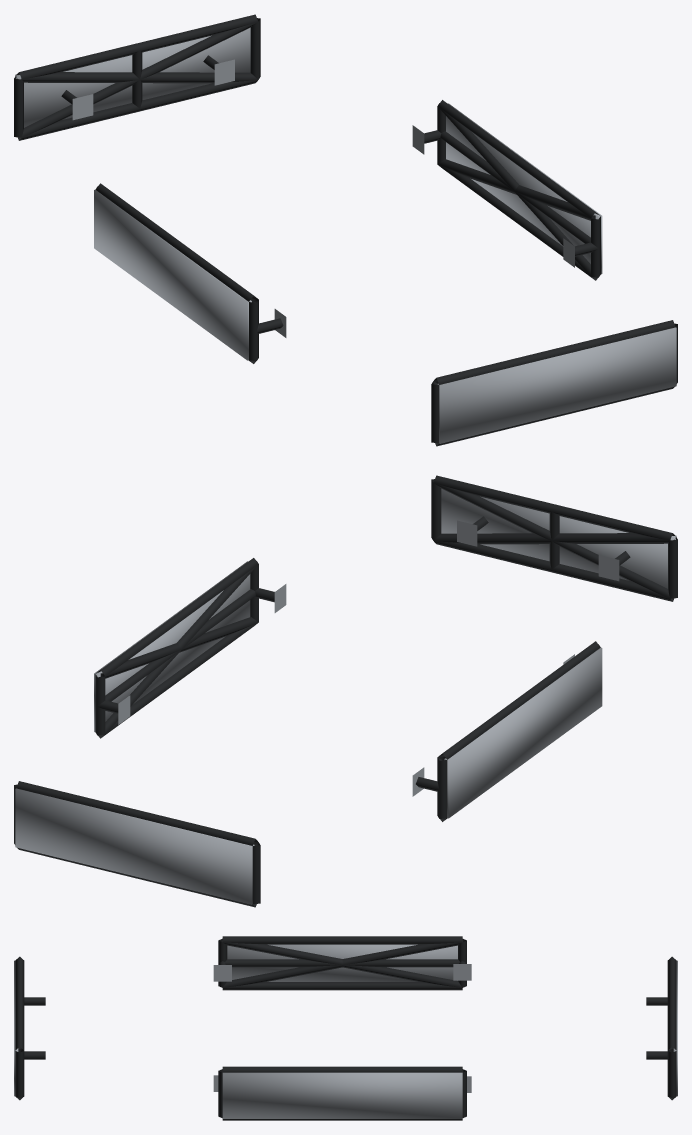
Rendered from tomoe_avenca_protecao.glb.
3 renders of one model, top to bottom at view 1: azimuth 30°, elevation 25°; view 2: azimuth 150°, elevation 25°; view 3: azimuth 270°, elevation 25°, orthographic. The views are drawn at different scales.
Visible parts, largest first — view 1: Protection_front_Level3_Details, Protection_left_Level3_Details, Protection_rear_Level1_Details, Protection_rear_Level3_Details, Protection_right_Level1_Details, Protection_rear_Level2_Details, Protection_right_Level2_Details, Protection_right_Level3_Details, Protection_front_Level1_Details, Protection_left_Level1_Details; view 2: Protection_rear_Level3_Details, Protection_left_Level3_Details, Protection_front_Level1_Details, Protection_front_Level3_Details, Protection_right_Level1_Details, Protection_front_Level2_Details, Protection_right_Level2_Details, Protection_right_Level3_Details, Protection_rear_Level1_Details, Protection_left_Level1_Details; view 3: Protection_right_Level3_Details, Protection_left_Level2_Details, Protection_left_Level1_Details, Protection_left_Level3_Details, Protection_right_Level1_Details, Protection_rear_Level1_Details, Protection_front_Level1_Details.
Boxes of the visible parts, x1,y1,x2,y2 form: Protection_front_Level3_Details: (437, 327, 676, 443); Protection_left_Level3_Details: (94, 189, 251, 360); Protection_rear_Level1_Details: (14, 14, 260, 140); Protection_rear_Level3_Details: (15, 27, 250, 127); Protection_right_Level1_Details: (412, 100, 600, 280); Protection_rear_Level2_Details: (16, 22, 257, 139); Protection_right_Level2_Details: (438, 107, 599, 279); Protection_right_Level3_Details: (446, 103, 602, 274); Protection_front_Level1_Details: (431, 320, 677, 446); Protection_left_Level1_Details: (95, 183, 286, 363); Protection_rear_Level3_Details: (15, 788, 254, 904); Protection_left_Level3_Details: (444, 647, 602, 818); Protection_front_Level1_Details: (431, 475, 677, 601); Protection_front_Level3_Details: (441, 488, 676, 588); Protection_right_Level1_Details: (95, 558, 286, 738); Protection_front_Level2_Details: (434, 483, 675, 600); Protection_right_Level2_Details: (96, 564, 258, 737); Protection_right_Level3_Details: (94, 561, 250, 731); Protection_rear_Level1_Details: (14, 781, 260, 907); Protection_left_Level1_Details: (412, 641, 600, 821); Protection_right_Level3_Details: (222, 1072, 462, 1118); Protection_left_Level2_Details: (222, 940, 462, 987); Protection_left_Level1_Details: (213, 936, 471, 990); Protection_left_Level3_Details: (227, 944, 457, 981); Protection_right_Level1_Details: (213, 1066, 471, 1120); Protection_rear_Level1_Details: (646, 956, 676, 1100); Protection_front_Level1_Details: (15, 956, 45, 1100).
Size of the model in its own units: 1.91 by 0.354 by 3.96.
1 material, 1 textured.
